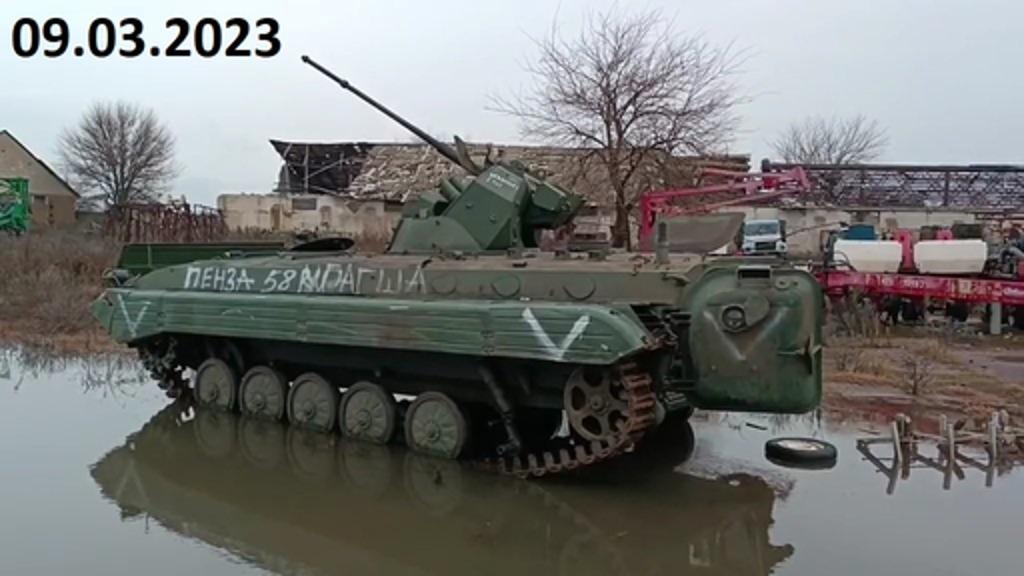APC-IFV: (94, 54, 806, 480)
